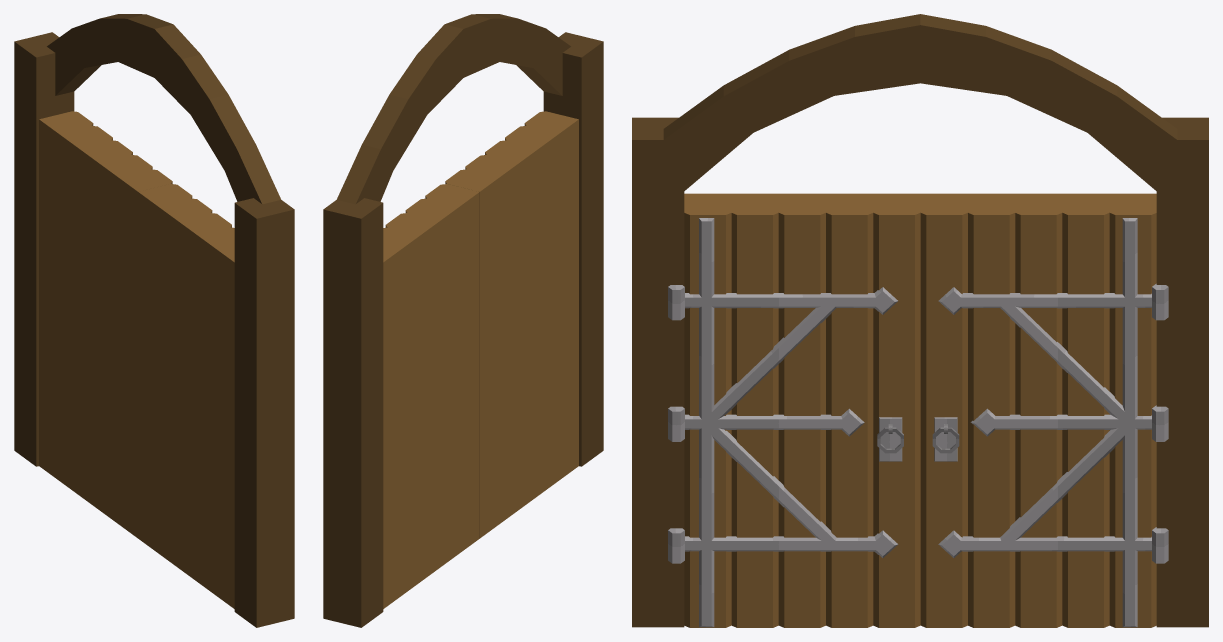
Rendered from door.obj.
3 views of the same model, side by side, from view 1: azimuth 30°, elevation 25°; view 2: azimuth 150°, elevation 25°; view 3: azimuth 270°, elevation 25° (orthographic). The views are drawn at different scales.
Visible parts, largest first — view 1: object2.002, object2.001, object2; view 2: object2.002, object2, object2.001; view 3: object2.001, object2, object2.002, object5, object5.001, object1, object1.001.
Part boxes in pixels (x1,y1,x2,y2): object2.002: (14,14,294,627); object2.001: (39,111,172,538); object2: (138,184,234,608); object2.002: (323,14,603,627); object2: (445,111,578,538); object2.001: (383,184,479,608); object2.001: (920,193,1156,627); object2: (684,193,920,627); object2.002: (632,14,1208,627); object5: (668,218,898,627); object5.001: (938,218,1168,627); object1: (879,417,902,461); object1.001: (934,417,957,461).
Bounding box in the file's own units: 16.95 × 176 × 152.
1 material, 1 textured.
